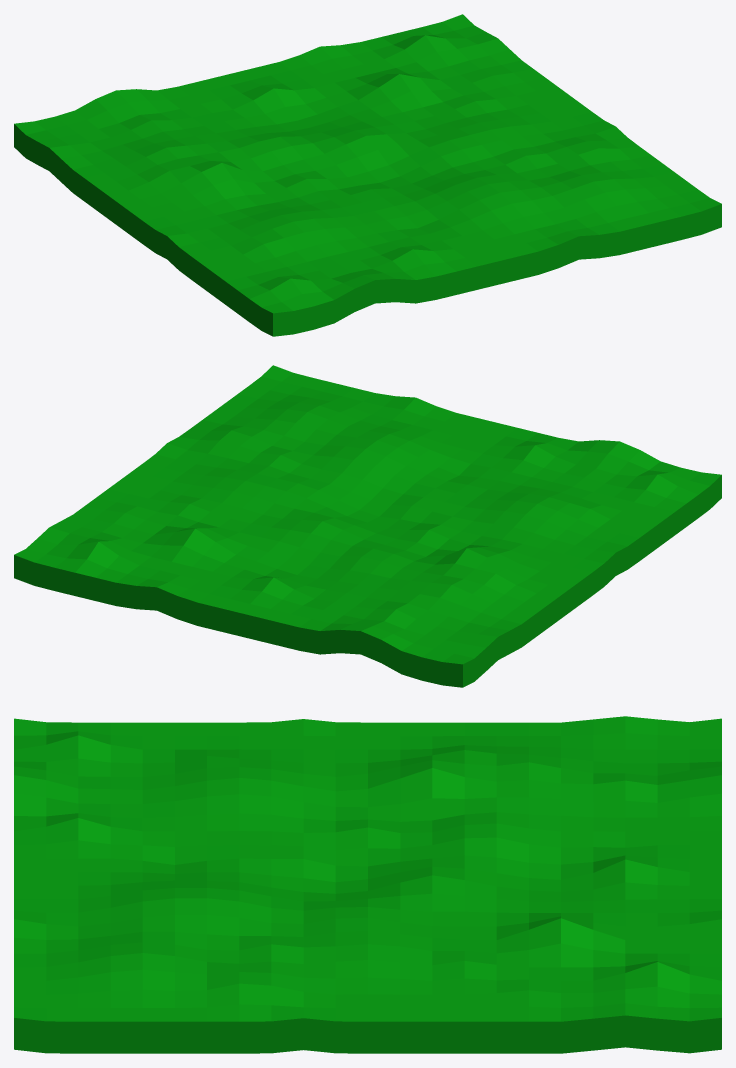
File: ground.fbx
3 renders of one model, top to bottom at view 1: azimuth 30°, elevation 25°; view 2: azimuth 150°, elevation 25°; view 3: azimuth 270°, elevation 25°, orthographic. The views are drawn at different scales.
Parts seen in each view (by area): view 1: Plane.001; view 2: Plane.001; view 3: Plane.001.
Part boxes in pixels (bbox=[...]): Plane.001: bbox=[14, 14, 721, 336]; Plane.001: bbox=[14, 365, 721, 687]; Plane.001: bbox=[14, 716, 721, 1053].
Bounding box in the file's own units: 4000 × 403 × 4000.
